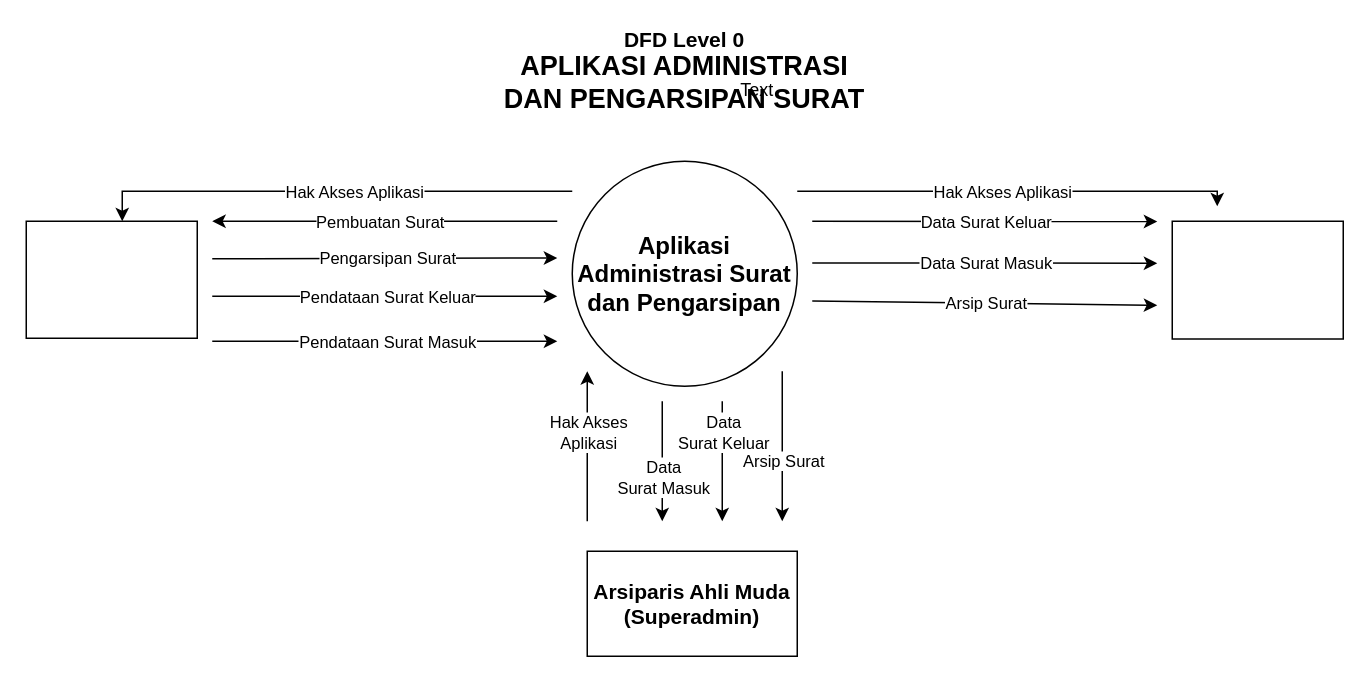
Some shapes in this 1370 by 683 pixel diagram are drawn without their labels. Here are the shapes that lost their labels. From the top down, the box of each, then its label:
(25, 220, 197, 338): Persuratan TU (Admin)
(1171, 220, 1343, 339): Tata Usaha (User)
